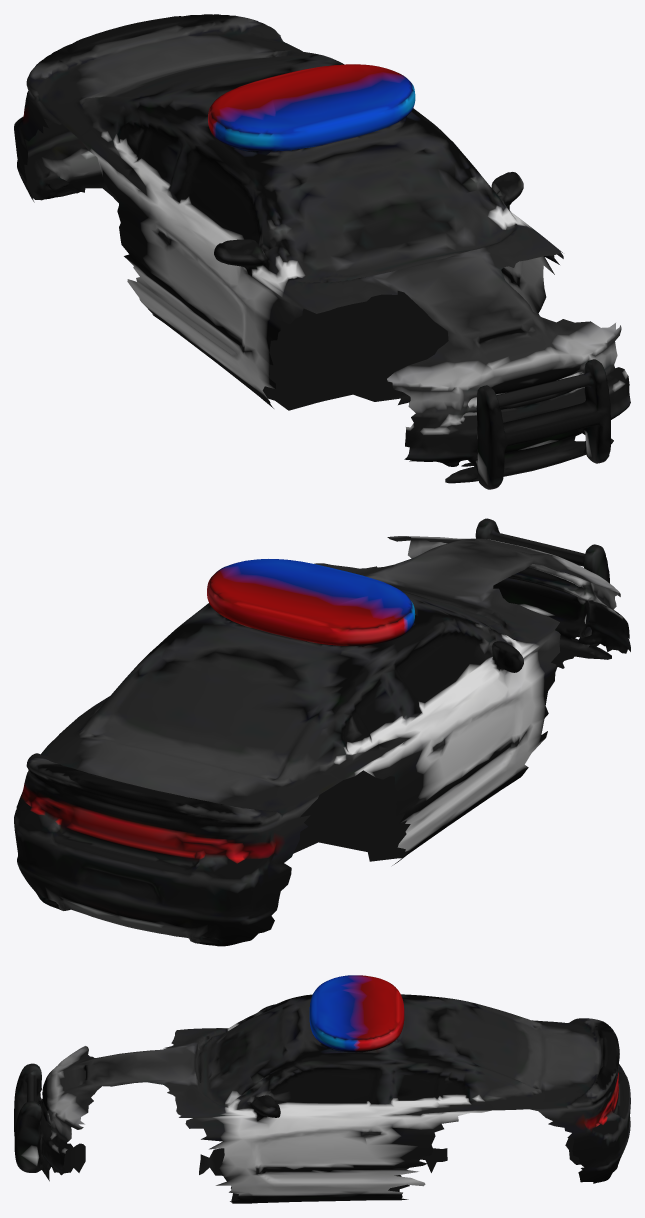
Rendered from police.glb.
The picture shows the model from 3 angles, top to bottom: view 1: azimuth 30°, elevation 25°; view 2: azimuth 150°, elevation 25°; view 3: azimuth 270°, elevation 25°; orthographic projection. The views are drawn at different scales.
Visible parts, largest first — view 1: geometry_0; view 2: geometry_0; view 3: geometry_0.
Part boxes in pixels (x1,y1,x2,y2): geometry_0: (14, 14, 630, 489); geometry_0: (14, 518, 630, 946); geometry_0: (14, 975, 630, 1203).
Bounding box in the file's own units: 1.94 × 1.35 × 4.8.
